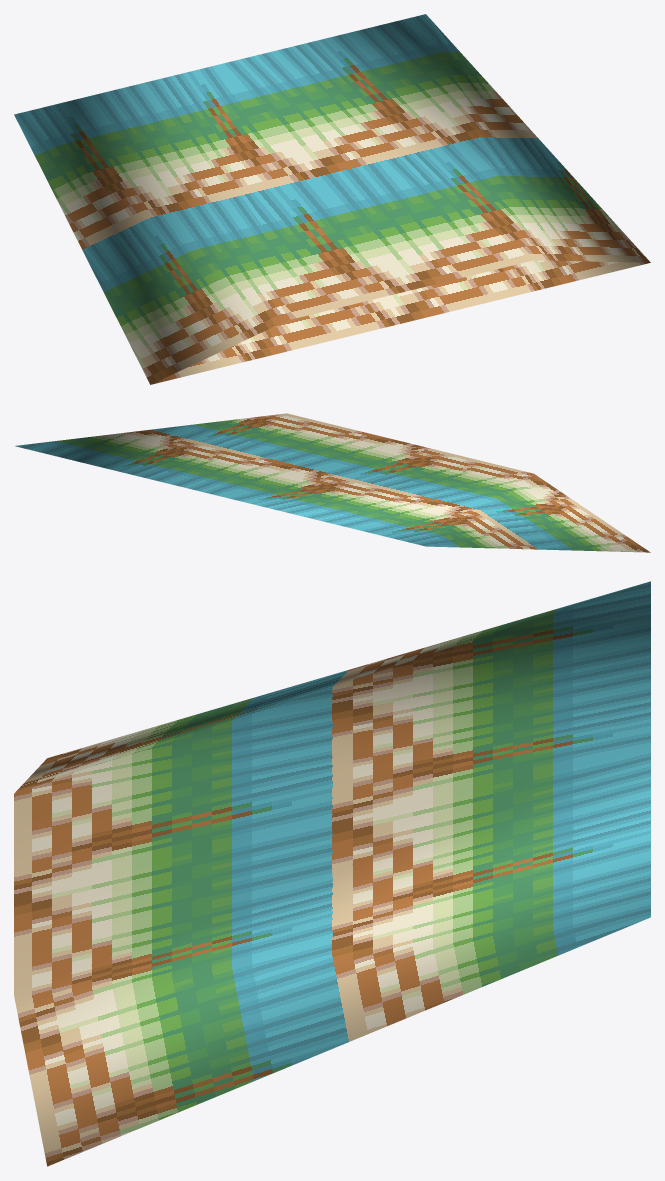
The model's file is 2355skirt00_r.gltf.
The picture shows the model from 3 angles, top to bottom: view 1: azimuth 30°, elevation 25°; view 2: azimuth 150°, elevation 25°; view 3: azimuth 270°, elevation 25°; orthographic projection. The views are drawn at different scales.
Parts seen in each view (by area): view 1: 2355skirt00_r; view 2: 2355skirt00_r; view 3: 2355skirt00_r.
Part boxes in pixels (box(x1,y1,x2,y2)): 2355skirt00_r: box(14, 14, 650, 384); 2355skirt00_r: box(15, 413, 650, 552); 2355skirt00_r: box(14, 581, 650, 1166).
Size of the model in its own units: 0.9868 by 0.24 by 0.6504.
1 material, 1 textured.
